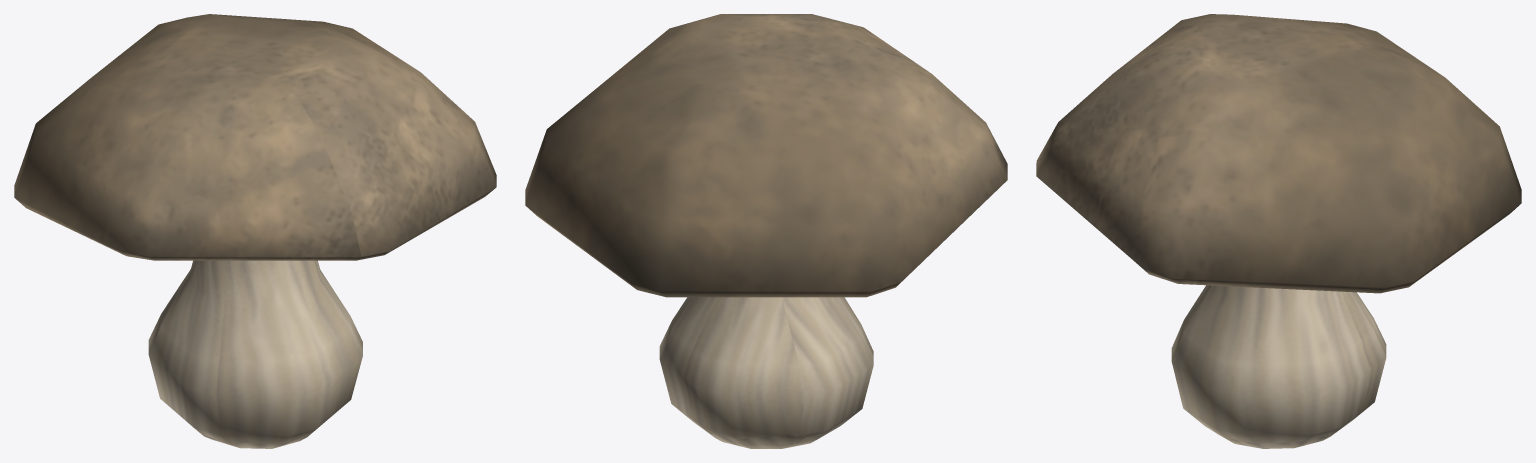
The model's file is LP_MushroomRaw.glb.
The picture shows the model from 3 angles, left to right: view 1: azimuth 30°, elevation 25°; view 2: azimuth 150°, elevation 25°; view 3: azimuth 270°, elevation 25°; orthographic projection.
Parts seen in each view (by area): view 1: Mushroom_Raw; view 2: Mushroom_Raw; view 3: Mushroom_Raw.
Boxes of the visible parts, left/top/right/bottom form: Mushroom_Raw: left=14, top=14, right=496, bottom=448; Mushroom_Raw: left=525, top=14, right=1007, bottom=448; Mushroom_Raw: left=1036, top=14, right=1521, bottom=448.
Size of the model in its own units: 0.1849 by 0.1771 by 0.2054.
Materials: 2 (2 with a texture image).
